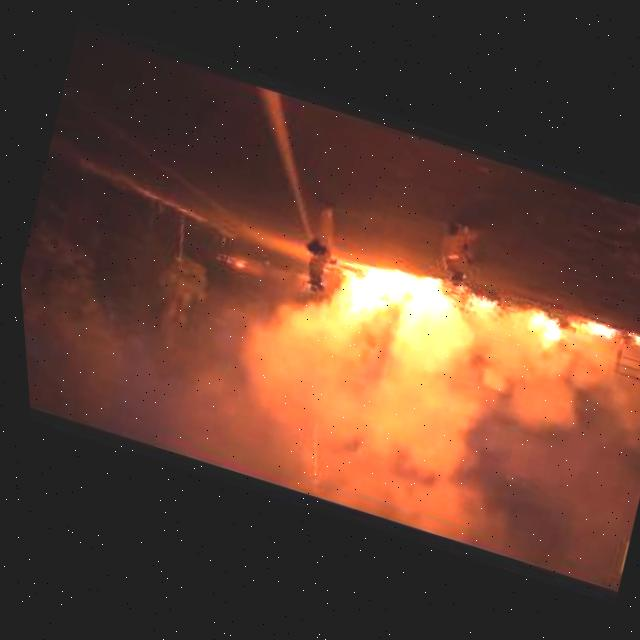Fire: (334, 253, 442, 338), (510, 306, 556, 349), (578, 317, 614, 341), (626, 334, 640, 353)
Smoke: (215, 263, 588, 528)
